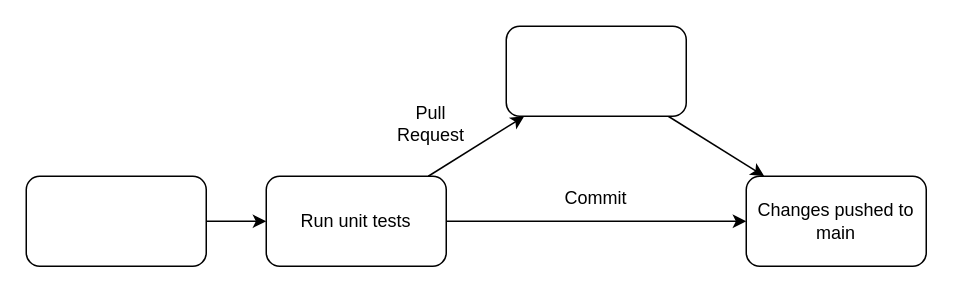
Some shapes in this 953 by 293 pixel diagram are drawn without their labels. Here are the shapes that lost their labels. From the top down, the box of each, then its label:
(505, 25, 686, 116): Request pull review
(25, 175, 206, 266): Commit or pull request made to main
